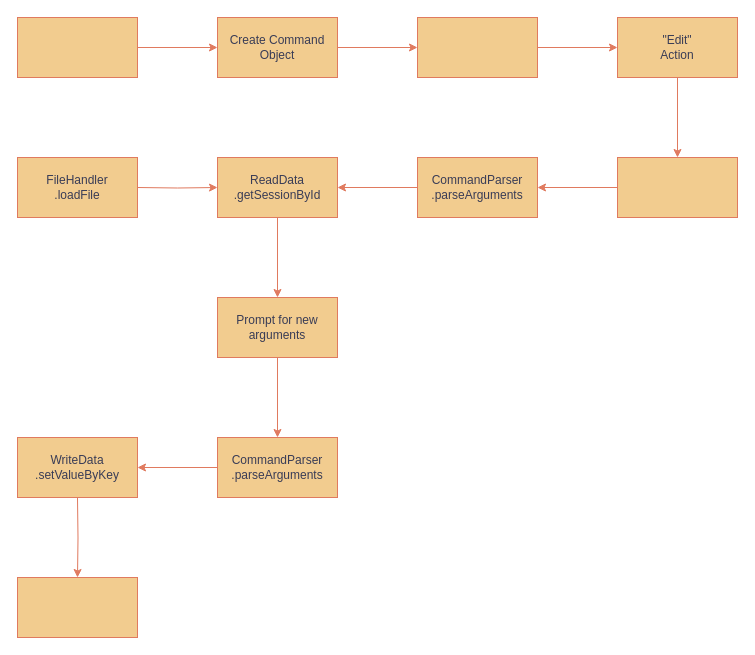
Image size: 755x655. Some labels were removed from this diagram. Each missing label, with the centre of its shape:
CommandParser .parseCommand: point 477,47
Input into console: point 77,47
Print output to console: point 77,607
Prompt for sessionID: point 677,187
